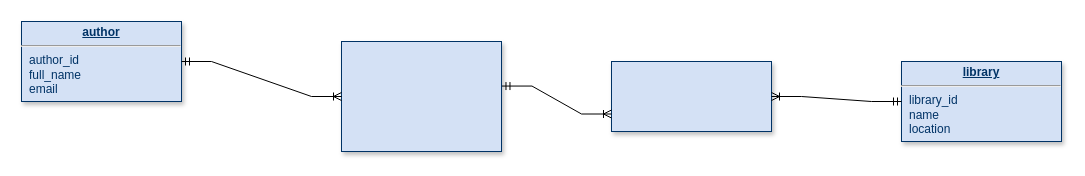
Some shapes in this 1085 by 176 pixel diagram are drawn without their labels. Each missing label, with the centre of its shape:
"book book_id autor_id title genre pages" goes at (x=422, y=97).
"library_book library_id book_id" goes at (x=692, y=97).
